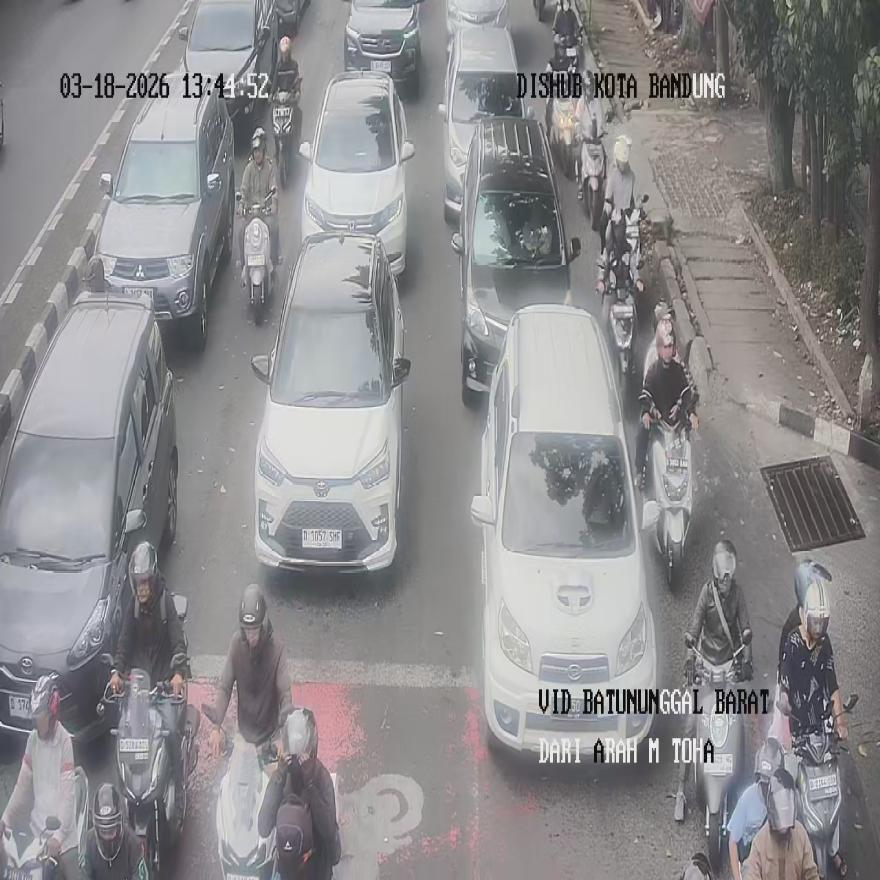Motor: (470, 306, 659, 760), (0, 289, 178, 741), (251, 231, 410, 571), (94, 71, 235, 346), (452, 116, 580, 403), (298, 70, 414, 275), (438, 23, 529, 226), (177, 0, 276, 148), (344, 0, 422, 98)
Truk: (107, 671, 192, 876), (686, 628, 752, 872), (782, 694, 857, 878), (204, 704, 279, 879), (269, 706, 339, 879), (641, 391, 693, 589), (0, 764, 88, 880), (596, 194, 646, 392), (722, 737, 786, 880), (81, 781, 149, 879), (238, 188, 278, 325), (545, 36, 580, 180), (271, 83, 300, 188), (578, 131, 607, 231), (549, 0, 582, 73), (273, 0, 310, 38)
